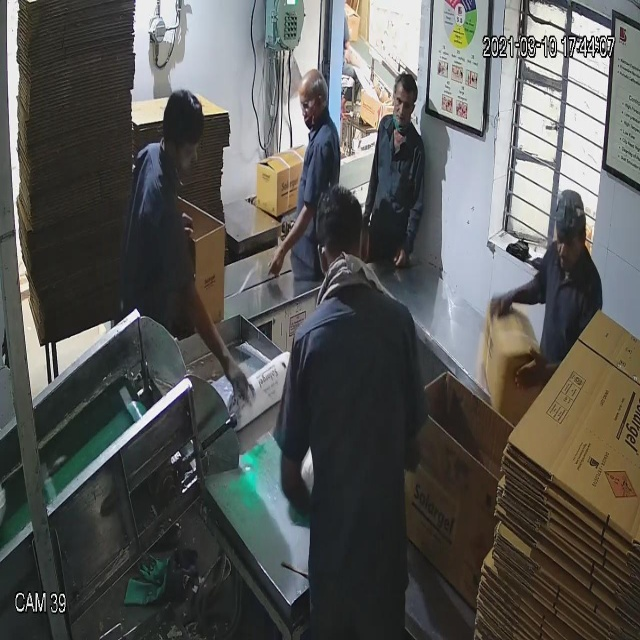Sin_guantes: (168, 260, 257, 413), (259, 187, 318, 292), (391, 181, 428, 284), (481, 268, 547, 321), (511, 336, 559, 394)
